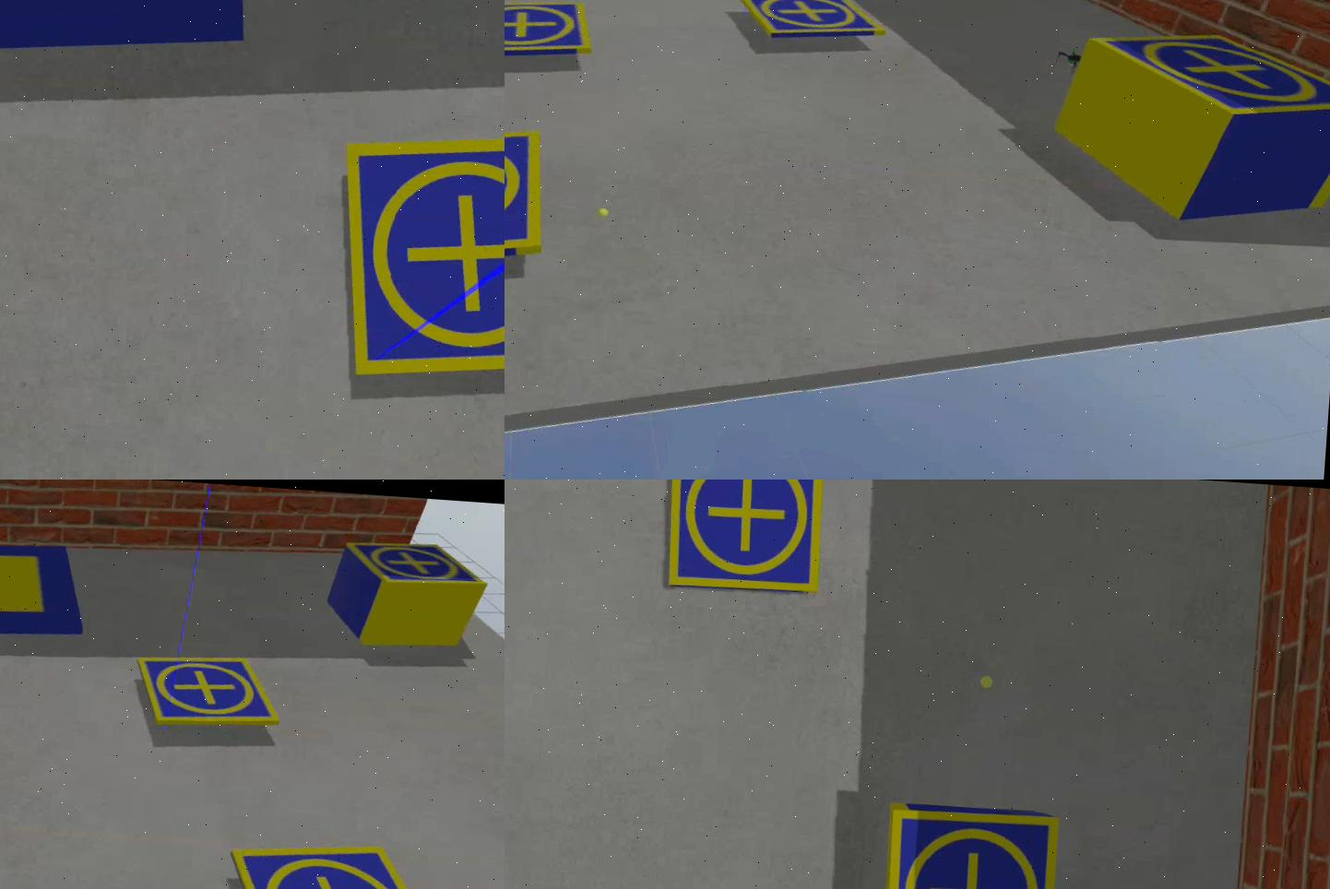large_base: (1, 525, 93, 656)
small_base: (332, 122, 505, 392), (1083, 29, 1330, 129), (662, 480, 829, 599), (881, 803, 1064, 889), (218, 833, 473, 889), (134, 650, 286, 735), (343, 538, 491, 599), (740, 1, 886, 50), (505, 1, 596, 66)
